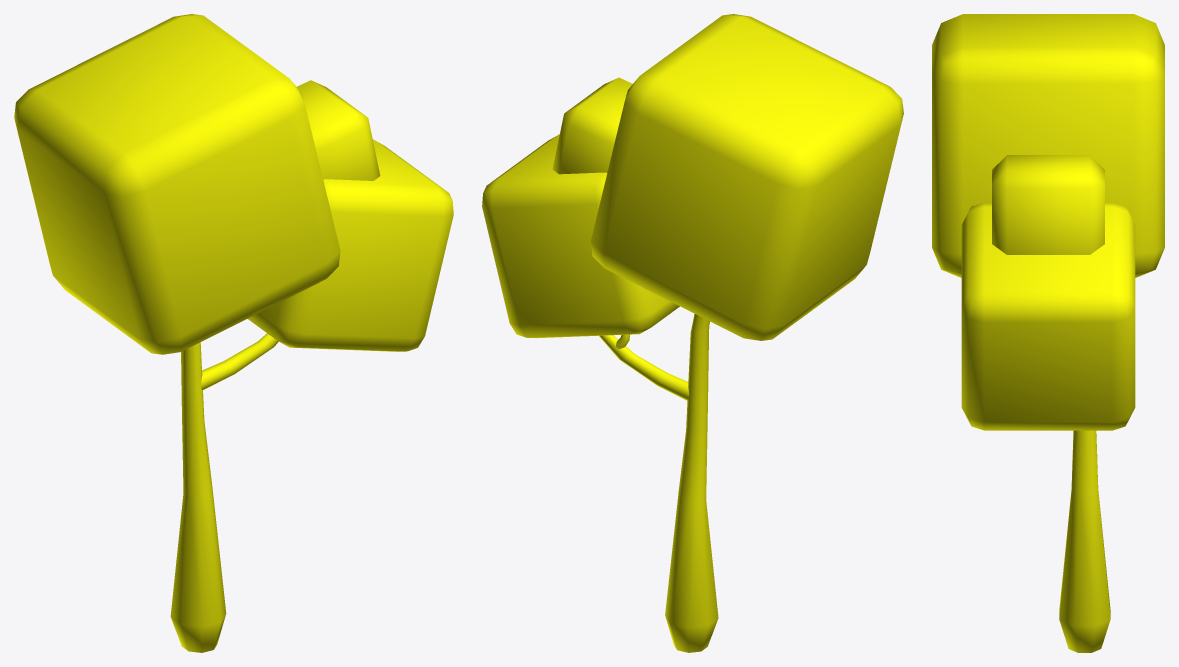
Rendered from kaykit-tree-2-b-color-1.glb.
3 views of the same model, side by side, from view 1: azimuth 30°, elevation 25°; view 2: azimuth 150°, elevation 25°; view 3: azimuth 270°, elevation 25° (orthographic). The views are drawn at different scales.
Visible parts, largest first — view 1: Tree_2_B_Color1; view 2: Tree_2_B_Color1; view 3: Tree_2_B_Color1.
Boxes of the visible parts, left/top/right/bottom form: Tree_2_B_Color1: left=14, top=14, right=453, bottom=652; Tree_2_B_Color1: left=482, top=14, right=903, bottom=652; Tree_2_B_Color1: left=932, top=14, right=1164, bottom=652.
Size of the model in its own units: 3.7 by 6.04 by 2.1.
